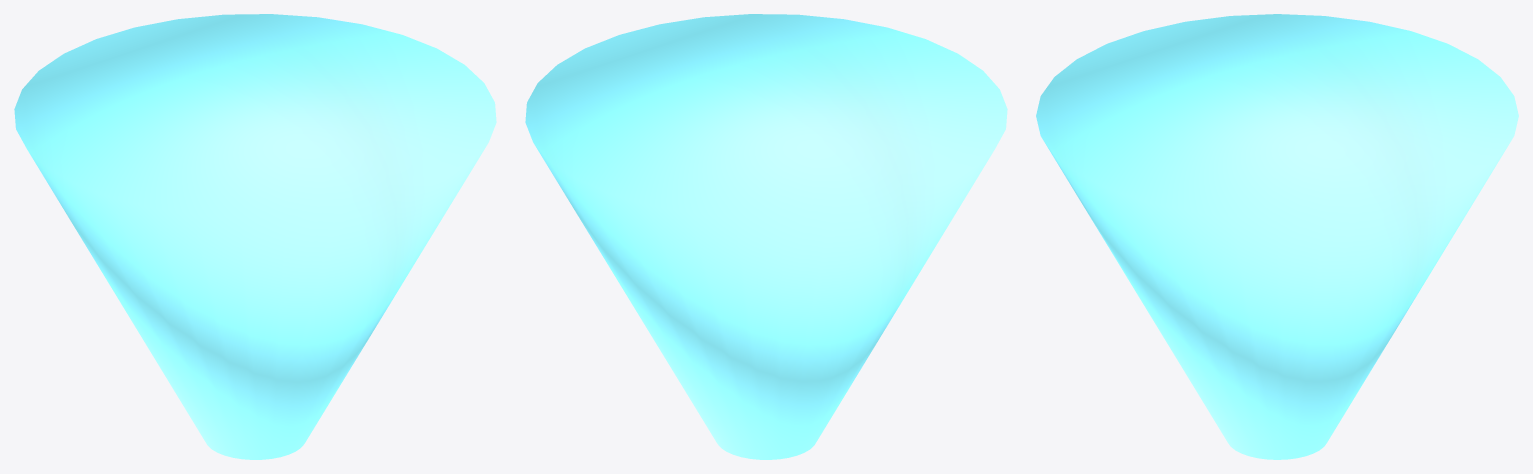
3 renders of one model, left to right at view 1: azimuth 30°, elevation 25°; view 2: azimuth 150°, elevation 25°; view 3: azimuth 270°, elevation 25°, orthographic.
Parts seen in each view (by area): view 1: Cylinder; view 2: Cylinder; view 3: Cylinder.
Boxes of the visible parts, x1,y1,x2,y2 form: Cylinder: [14, 14, 496, 459]; Cylinder: [525, 14, 1007, 459]; Cylinder: [1036, 14, 1518, 459].
Bounding box in the file's own units: 0.1512 × 0.1114 × 0.1512.
